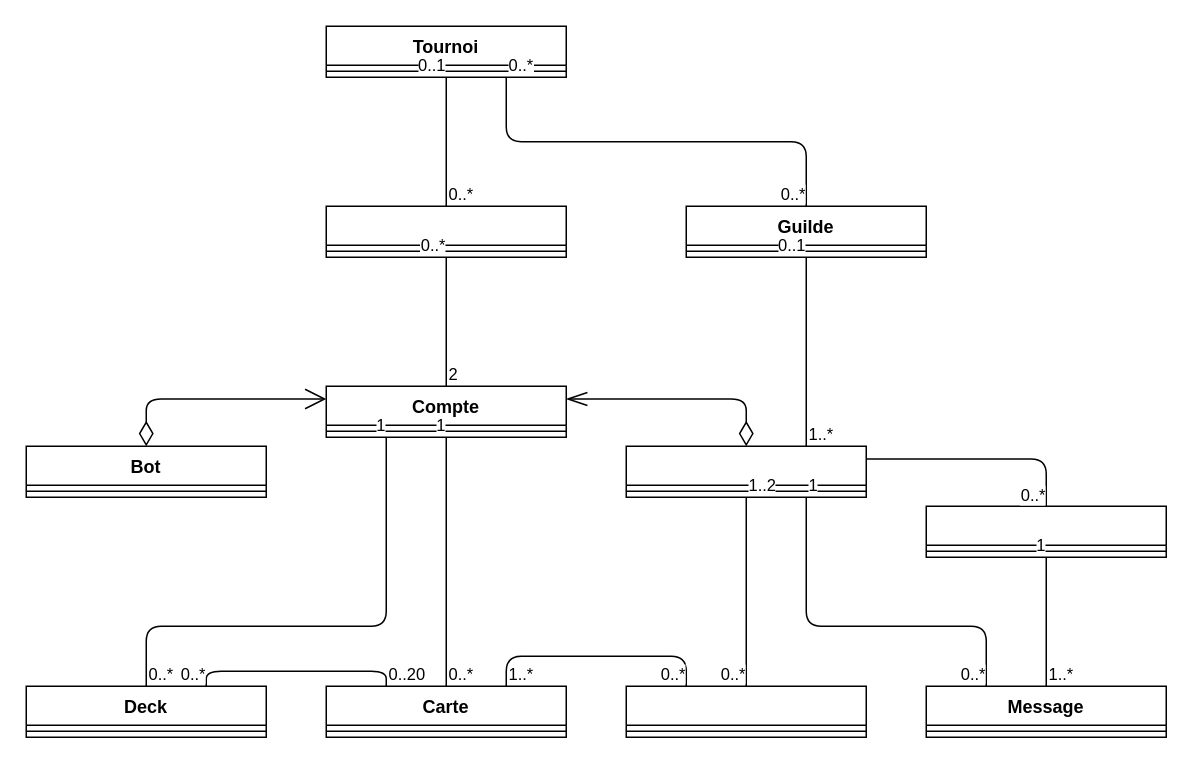
Some shapes in this 1193 by 764 pixel diagram are drawn without their labels. The centre of each missing label's shape, as x and y in pixels:
"Duel" goes at pixel 445 231.
"Joueur" goes at pixel 745 471.
"Thread (Forum)" goes at pixel 1045 531.
"Vente" goes at pixel 745 711.
